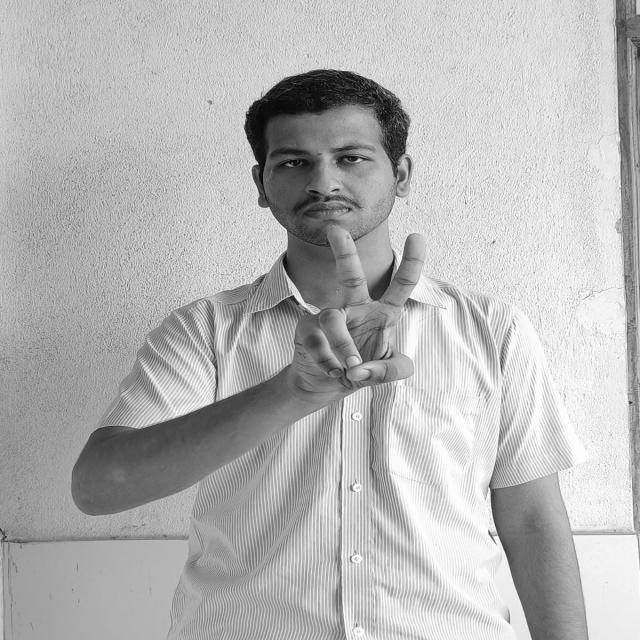Victory: (299, 221, 430, 404)
